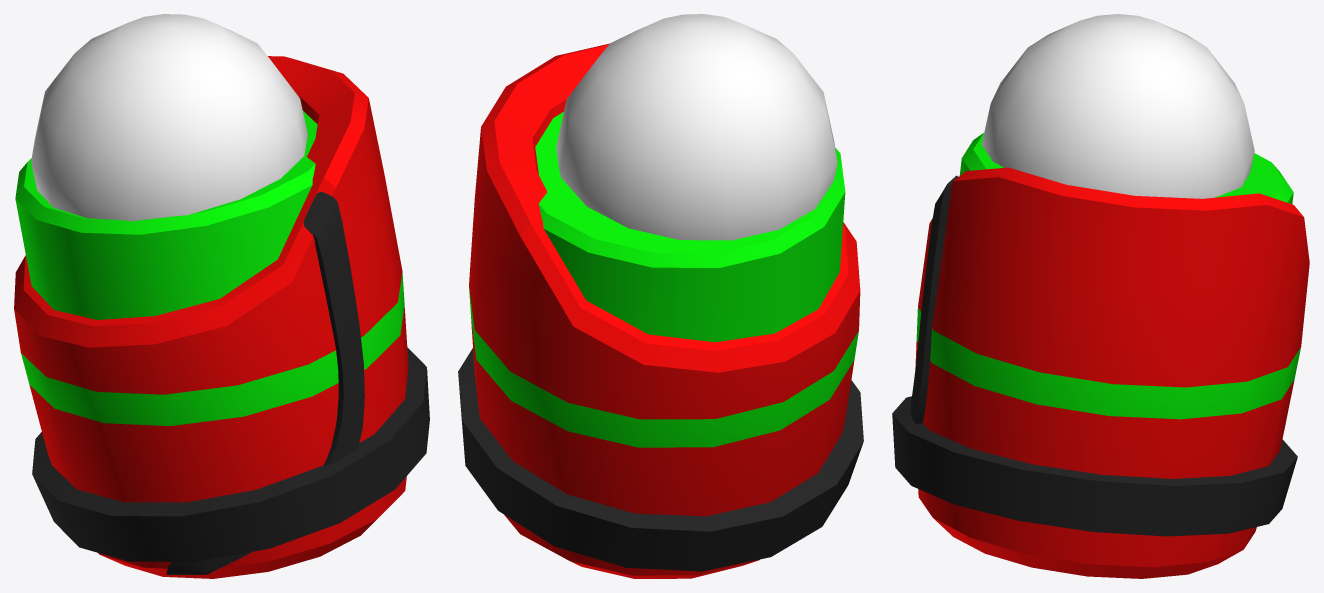
Rendered from Moonboy_UpperLeg.fbx.
The picture shows the model from 3 angles, left to right: view 1: azimuth 30°, elevation 25°; view 2: azimuth 150°, elevation 25°; view 3: azimuth 270°, elevation 25°; orthographic projection. The views are drawn at different scales.
Parts seen in each view (by area): view 1: Moonboy_UpperLeg; view 2: Moonboy_UpperLeg; view 3: Moonboy_UpperLeg.
Part boxes in pixels (box(x1,y1,x2,y2)): Moonboy_UpperLeg: box(14, 14, 429, 578); Moonboy_UpperLeg: box(458, 14, 863, 578); Moonboy_UpperLeg: box(892, 14, 1309, 578).
Size of the model in its own units: 27.95 by 38.81 by 29.25.
